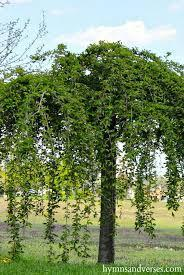tree: (1, 38, 184, 263)
